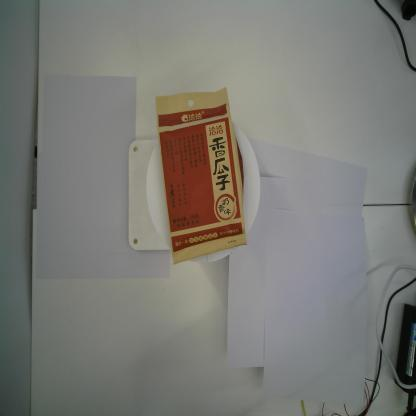Dried Food: (156, 87, 248, 265)
